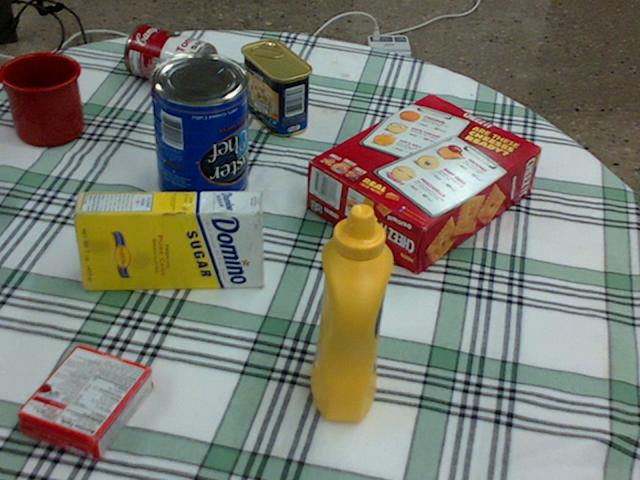cracker_box: (308, 94, 540, 274)
gelatin_box: (18, 344, 151, 459)
master_chef_can: (147, 52, 246, 211)
mug: (0, 51, 84, 144)
mustard_bottle: (311, 204, 393, 419)
potted_meat_can: (239, 40, 311, 135)
sugar_box: (71, 192, 262, 289)
tomato_soup_can: (124, 24, 216, 91)
